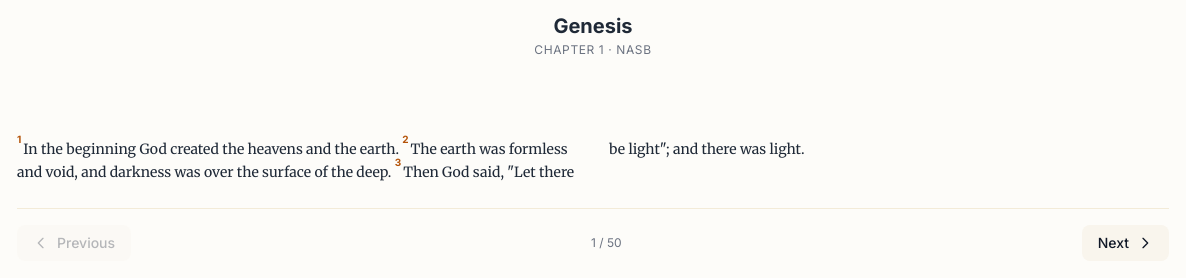
VerseDisplay › clicking a verse selects it and shows action bar
Check: the text "In the beginning God created the heavens and the earth." is shown, box [23,140,399,158]
Click the element showing "1In the beginning God created the heavens and the earth.".
click(210, 149)  # box [17,140,402,158]
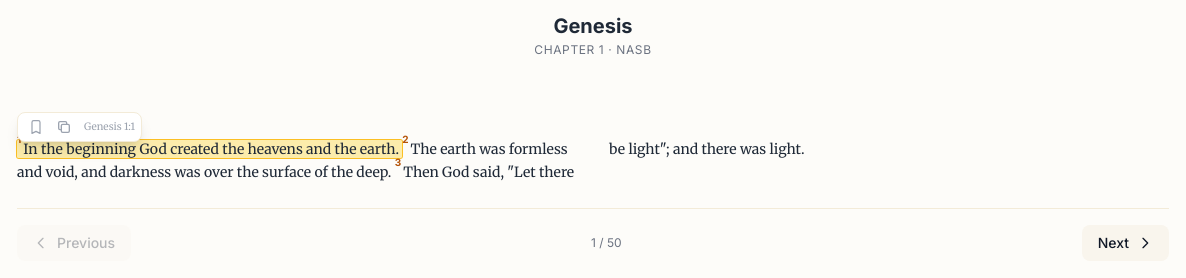
Check: the button named "Bookmark this verse" is shown, box [24,115,48,139]
Check: the button named "Copy verse" is shown, box [52,115,76,139]
